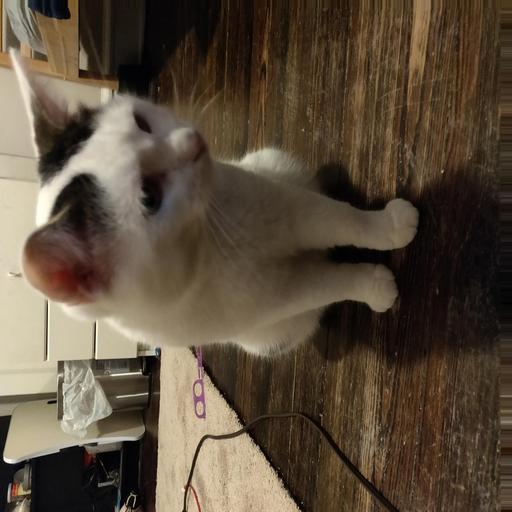cat: (7, 47, 294, 334)
